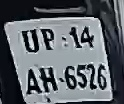1: (67, 25, 82, 49)
2: (86, 63, 97, 90)
4: (80, 27, 96, 49)
5: (76, 63, 88, 89)
6: (95, 64, 109, 90), (64, 65, 78, 90)
A: (25, 66, 41, 95)
H: (38, 64, 59, 94)
P: (39, 26, 57, 53)
U: (20, 28, 41, 54)
